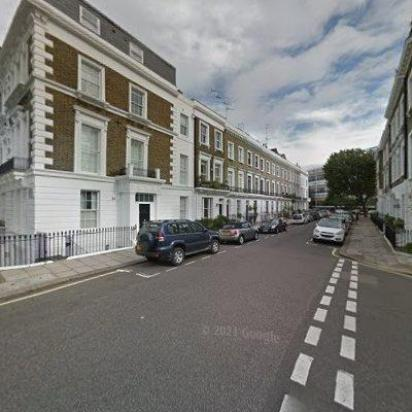stationary-car-onstreet: (132, 216, 221, 266), (312, 216, 348, 246), (215, 221, 259, 245), (258, 216, 287, 234), (290, 212, 310, 224)
